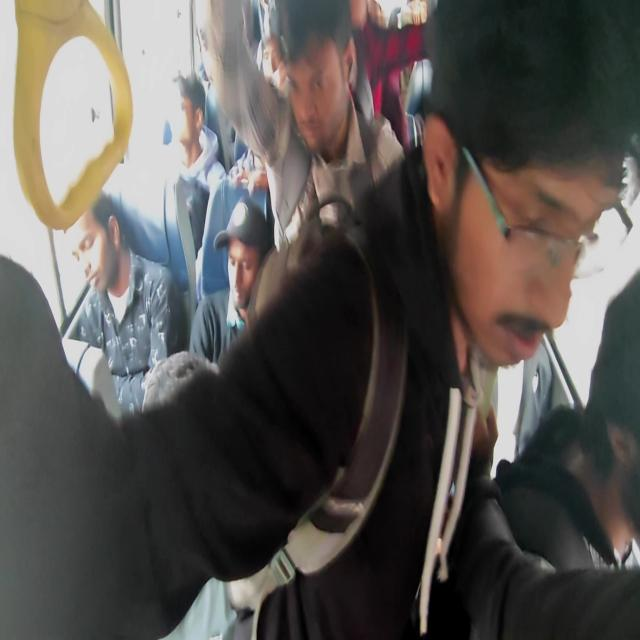person: (222, 1, 638, 637), (0, 232, 378, 639), (451, 268, 639, 638), (196, 1, 408, 328), (65, 191, 187, 416), (106, 70, 227, 296), (188, 195, 271, 366)
